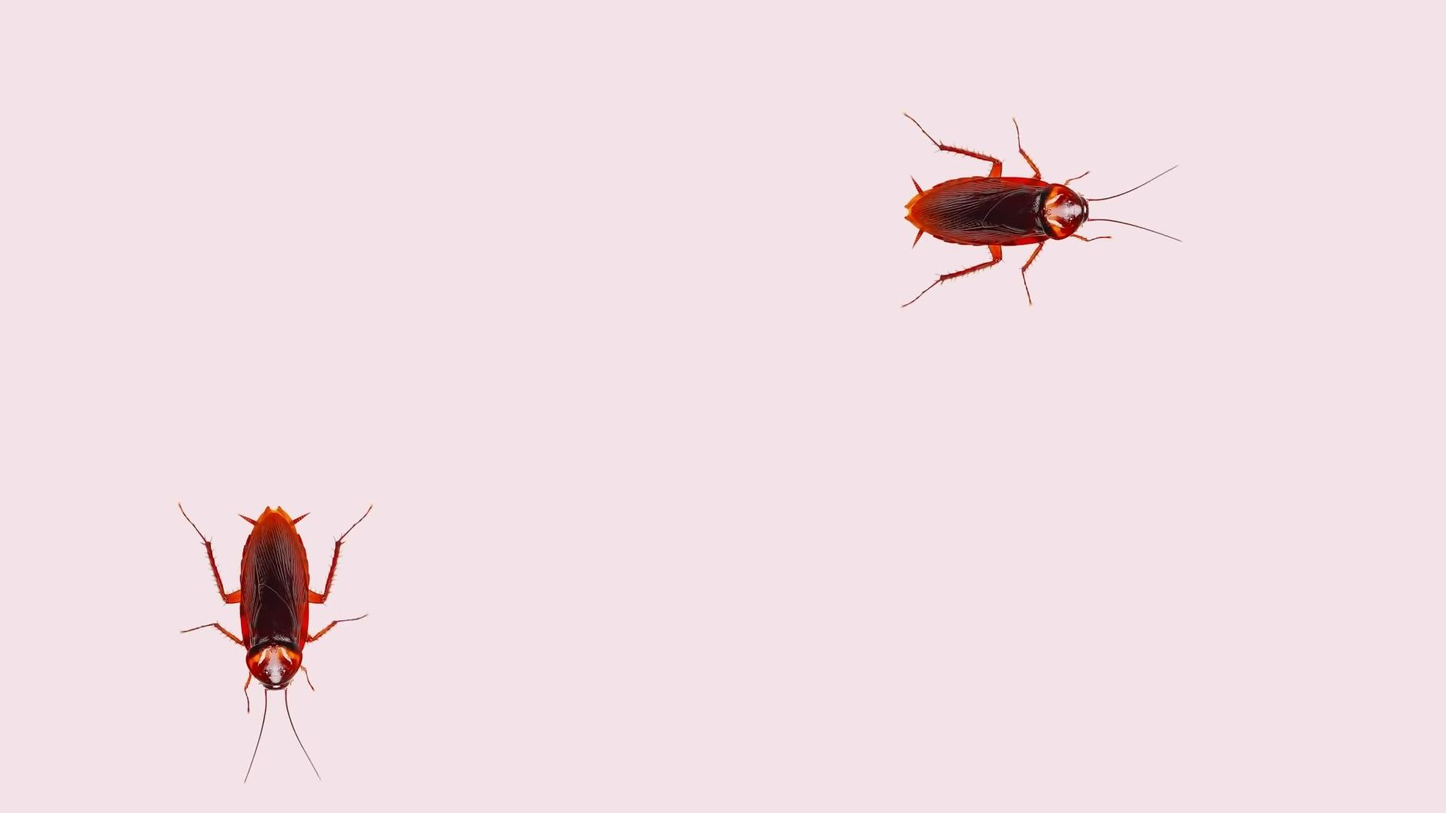cockroach: (173, 481, 375, 789), (899, 116, 1186, 304)
